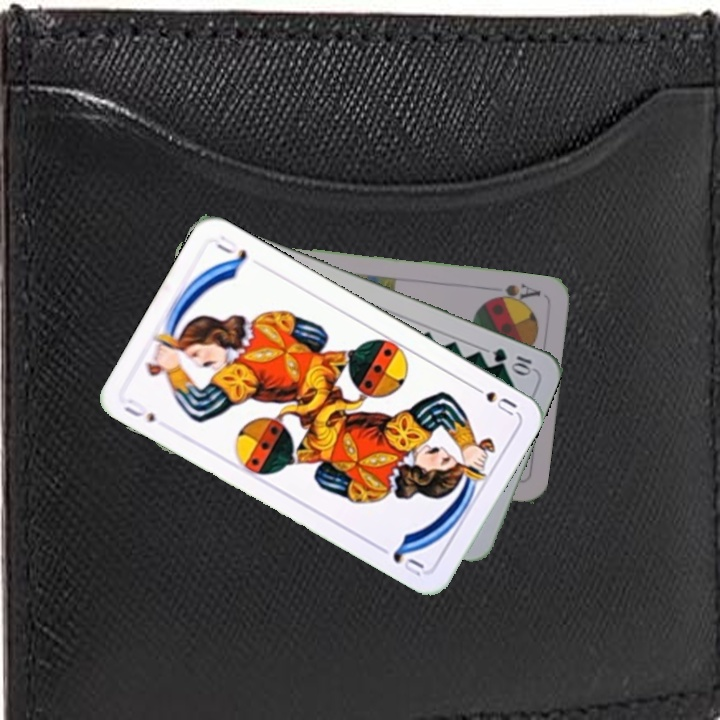G10: (488, 344, 536, 377)
SA: (486, 279, 543, 307)
SU: (466, 380, 520, 419), (119, 395, 158, 425)
